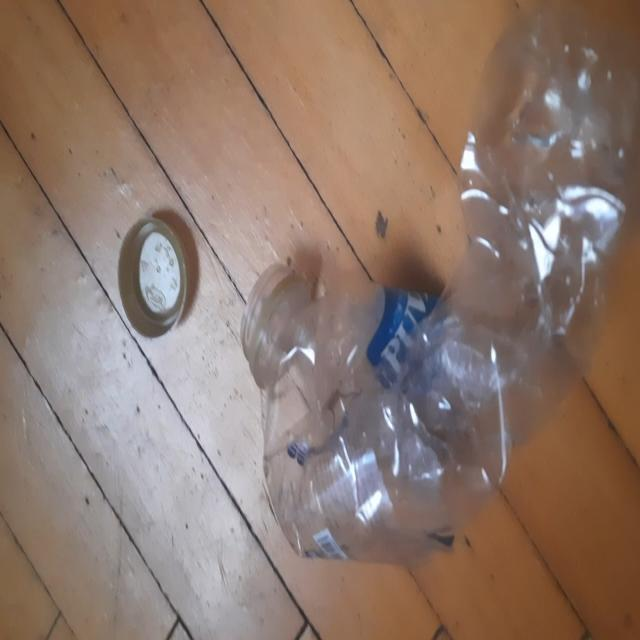Plastic: (242, 2, 638, 564)
